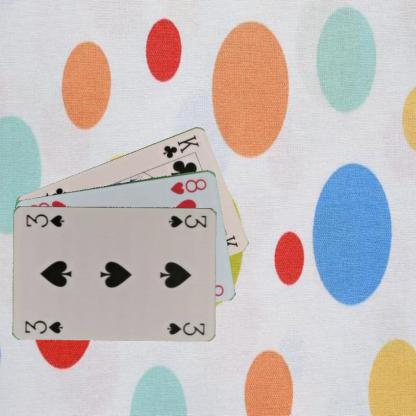3s: (166, 211, 208, 230), (23, 317, 64, 335)
8h: (168, 176, 208, 196)
Kc: (160, 132, 201, 159)
